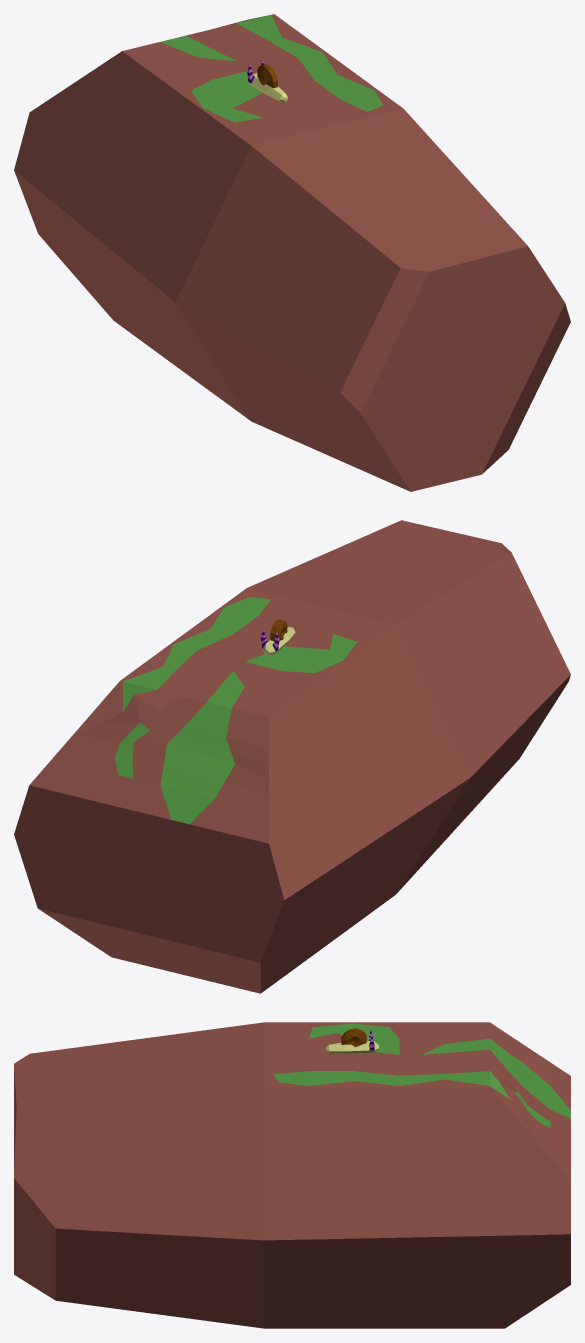
File: Snail with log.fbx
The picture shows the model from 3 angles, top to bottom: view 1: azimuth 30°, elevation 25°; view 2: azimuth 150°, elevation 25°; view 3: azimuth 270°, elevation 25°; orthographic projection. The views are drawn at different scales.
Parts seen in each view (by area): view 1: Cylinder, shell; view 2: Cylinder, shell; view 3: Cylinder, shell.
Boxes of the visible parts, box(x1,y1,x2,y2) form: Cylinder: box(14, 14, 570, 491); shell: box(247, 60, 287, 102); Cylinder: box(14, 520, 570, 993); shell: box(260, 619, 295, 655); Cylinder: box(14, 1022, 570, 1328); shell: box(325, 1028, 378, 1053).
Bounding box in the file's own units: 126 × 119 × 228.
